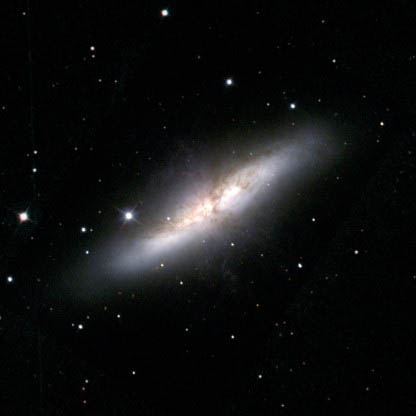Messier 82: (54, 113, 345, 303)
